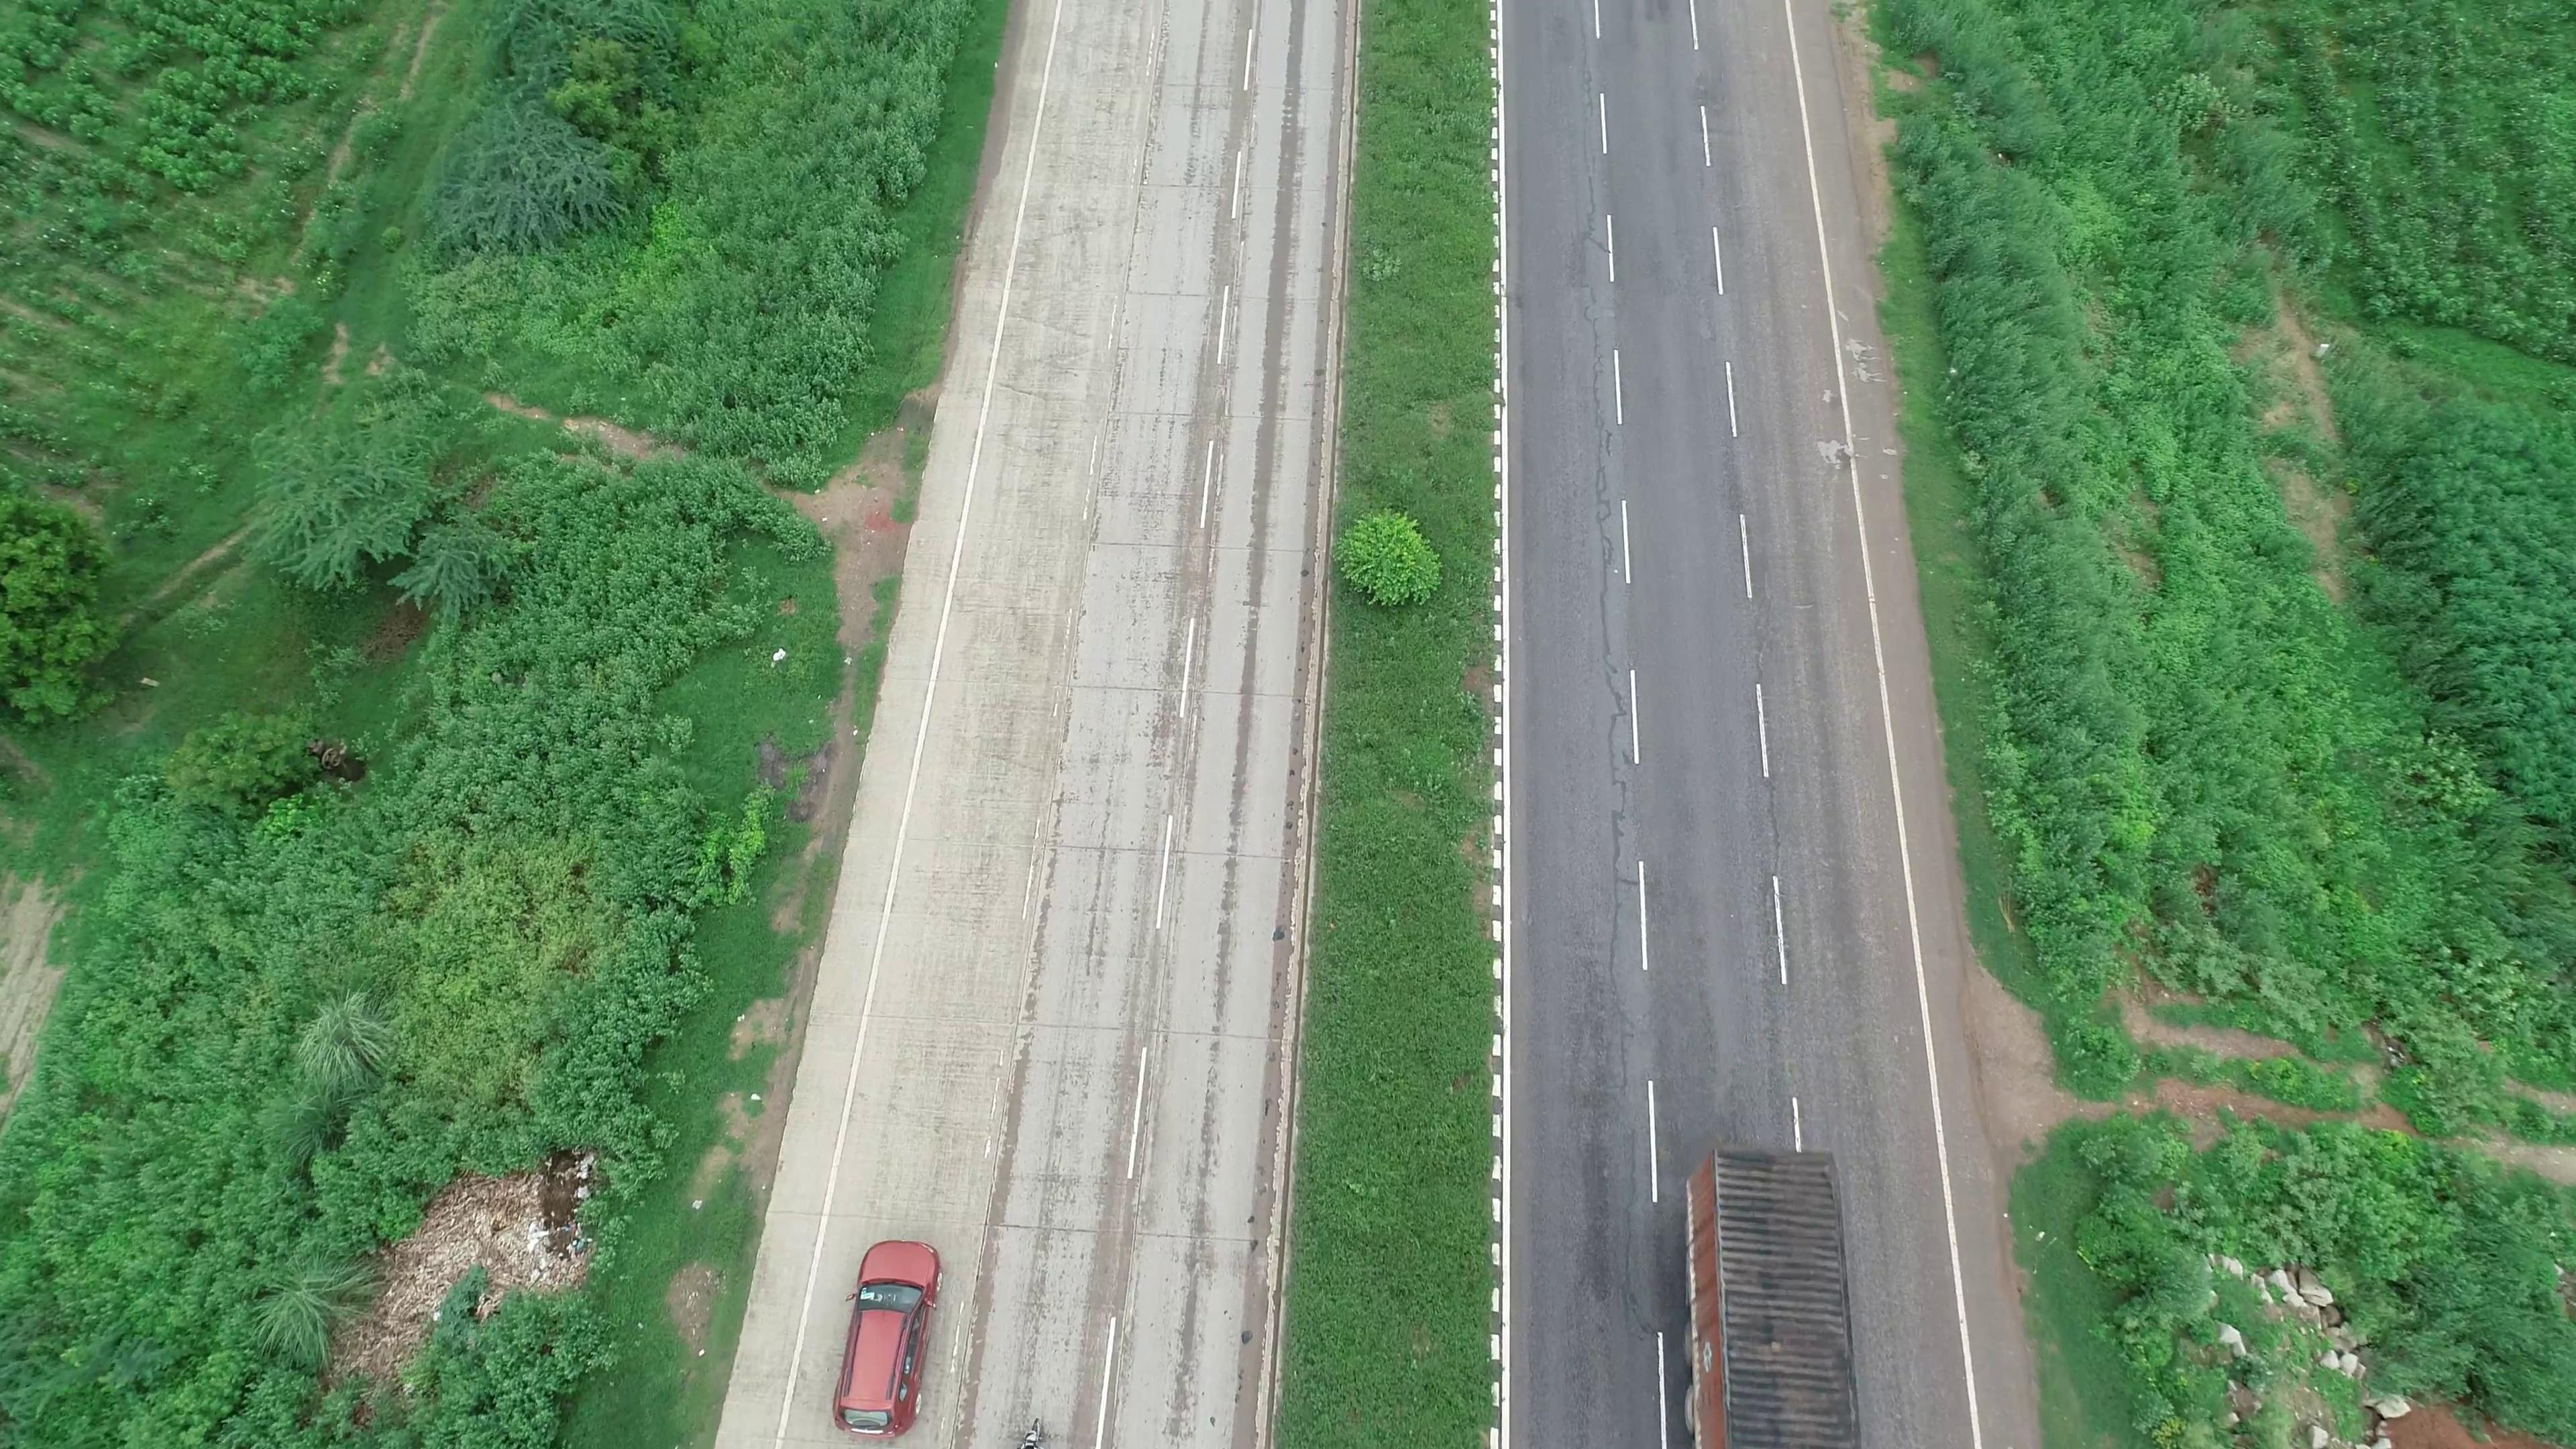Longitudinal_cracks: (1582, 269, 1638, 870)
